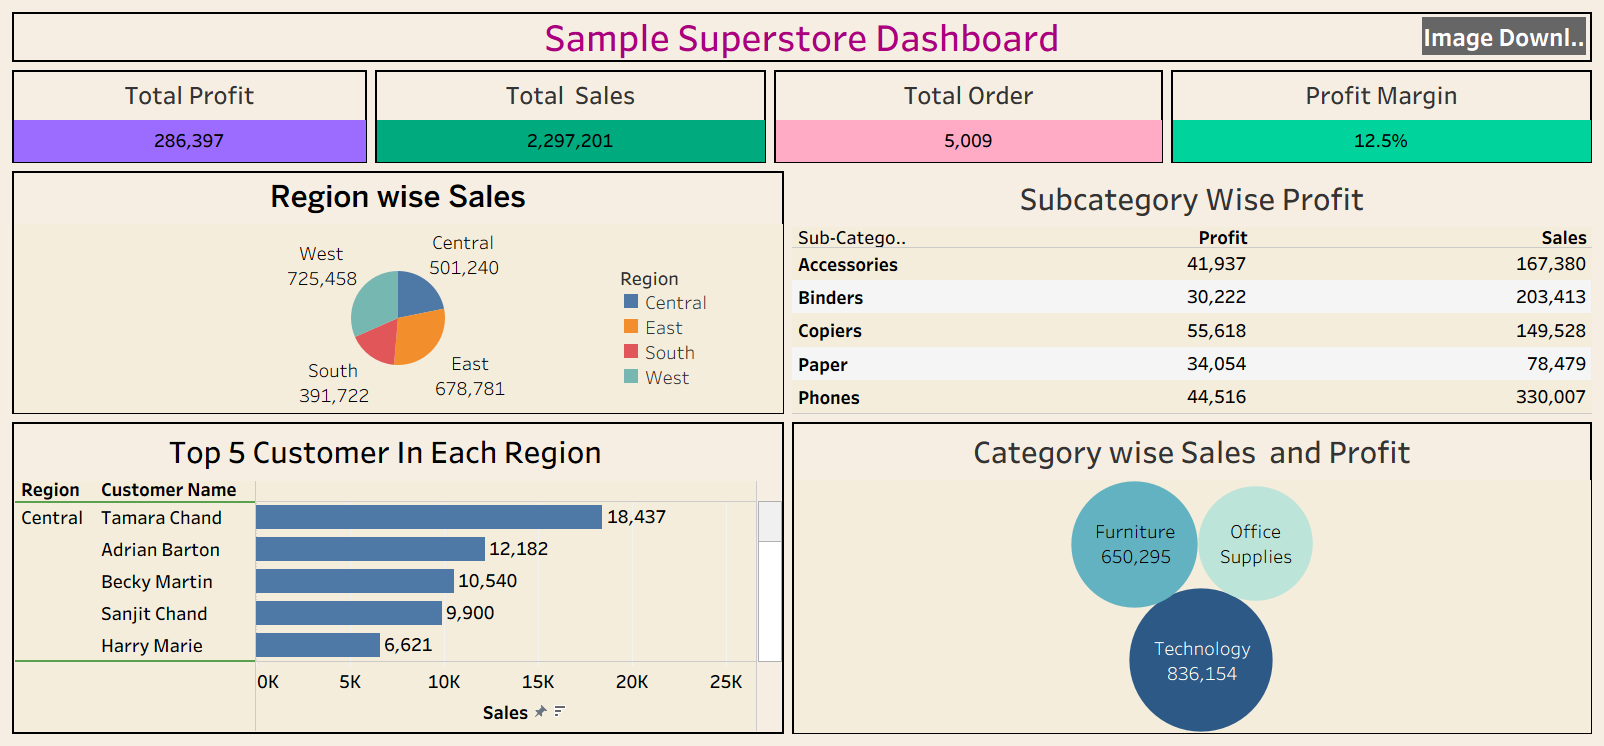

What the dashboard file says about the page in this screenshot:
{"tool":"tableau","page":{"name":"Dashboard 1","canvas":[1000,1000],"units":"permille","ordinal":0},"visuals":[{"type":"title","box":[5,10.7,990,77.7]},{"type":"dashboard-object","box":[886.5,22.8,102.2,50.9]},{"type":"worksheet","title":"Total Profit","mark":"Automatic","box":[5,88.5,226.3,141.2]},{"type":"worksheet","title":"Total  Sales","mark":"Automatic","box":[231.3,88.5,248.8,141.2]},{"type":"worksheet","title":"Total Order","mark":"Automatic","box":[480,88.5,247.5,141.2]},{"type":"worksheet","title":"Profit Margin","mark":"Automatic","box":[727.6,88.5,267.5,141.2]},{"type":"worksheet","title":"Sheet 6","mark":"Pie","box":[5,229.6,486.3,349.4]},{"type":"worksheet","title":"Sheet 5","mark":"GanttBar","rows":["Profit"],"cols":["Sub-Category"],"box":[491.3,229.6,503.7,349.4]},{"type":"legend","title":"Sheet 6","param":"[federated.1i1z7q114ln3an105ffuk0pk3udx].[none:Region:nk]","box":[397.8,386.1,87.3,168.9]},{"type":"worksheet","title":"Sheet 7","mark":"Automatic","rows":["Region","Customer Name"],"cols":["Sales"],"box":[5,579.1,495,410.2]},{"type":"worksheet","title":"Sheet 8","mark":"Circle","box":[500,579.1,495,410.2]}]}

Visuals, with their boxes on the dashboard's canvas, which has no fixed pixel size, in thousandths of its width and height (x1, y1, x2, y2). These are canvas units, not pixel positions in the 1604x746 screenshot, which may show the page scaled, cropped or inside an application window:
title: (5, 11, 995, 88)
dashboard-object: (886, 23, 989, 74)
"Total Profit" worksheet: (5, 88, 231, 230)
"Total  Sales" worksheet: (231, 88, 480, 230)
"Total Order" worksheet: (480, 88, 728, 230)
"Profit Margin" worksheet: (728, 88, 995, 230)
"Sheet 6" worksheet (Pie marks): (5, 230, 491, 579)
"Sheet 5" worksheet (GanttBar marks): (491, 230, 995, 579)
"Sheet 6" legend: (398, 386, 485, 555)
"Sheet 7" worksheet: (5, 579, 500, 989)
"Sheet 8" worksheet (Circle marks): (500, 579, 995, 989)
